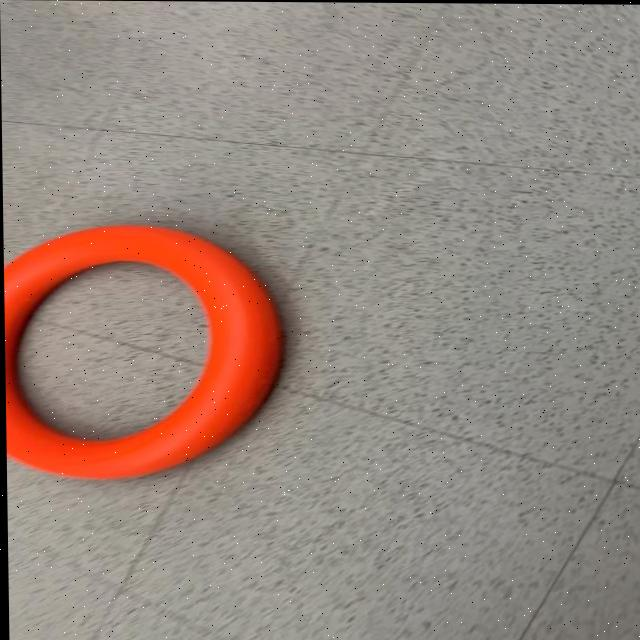note: (4, 223, 286, 482)
